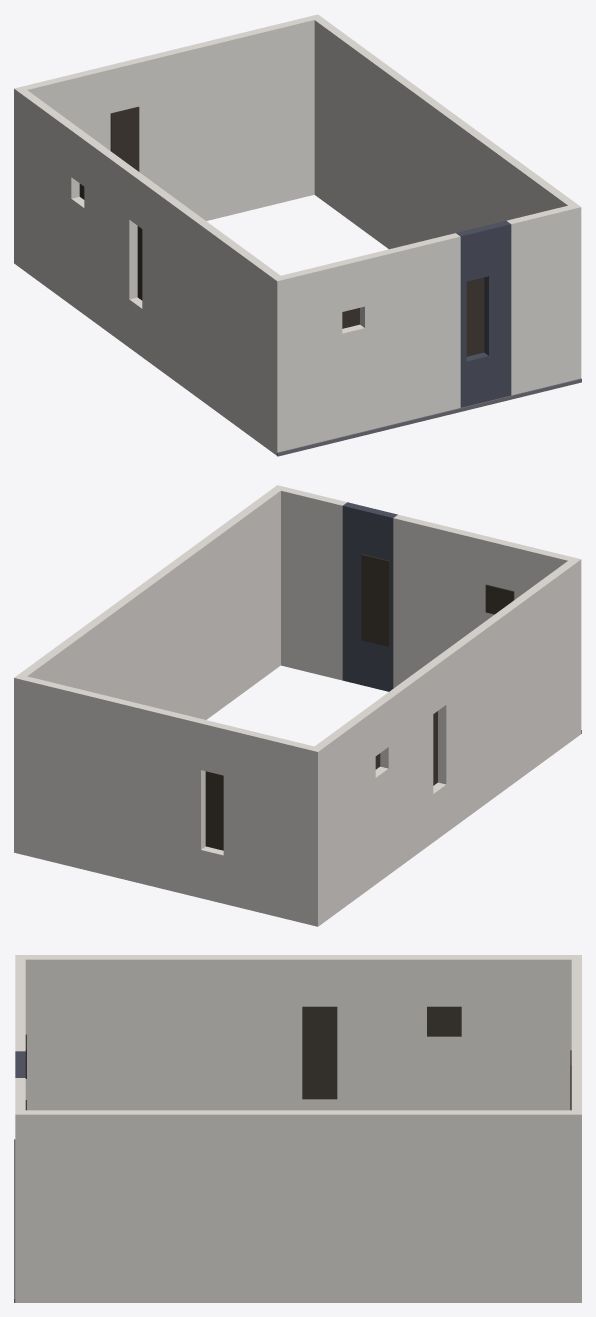
The model's file is SM_Floor_NarrowUpperScatterHighEndL_White_546_Back_01.gltf.
The picture shows the model from 3 angles, top to bottom: view 1: azimuth 30°, elevation 25°; view 2: azimuth 150°, elevation 25°; view 3: azimuth 270°, elevation 25°; orthographic projection. The views are drawn at different scales.
Parts seen in each view (by area): view 1: SM_Floor_NarrowUpperScatterHighEndL_White_546_Back_01; view 2: SM_Floor_NarrowUpperScatterHighEndL_White_546_Back_01; view 3: SM_Floor_NarrowUpperScatterHighEndL_White_546_Back_01.
Part boxes in pixels (<box>): SM_Floor_NarrowUpperScatterHighEndL_White_546_Back_01: <box>14,14,581,456</box>; SM_Floor_NarrowUpperScatterHighEndL_White_546_Back_01: <box>14,485,581,926</box>; SM_Floor_NarrowUpperScatterHighEndL_White_546_Back_01: <box>14,955,581,1302</box>.
Bounding box in the file's own units: 5.46 × 3 × 8.21.
Materials: 1 (1 with a texture image).
